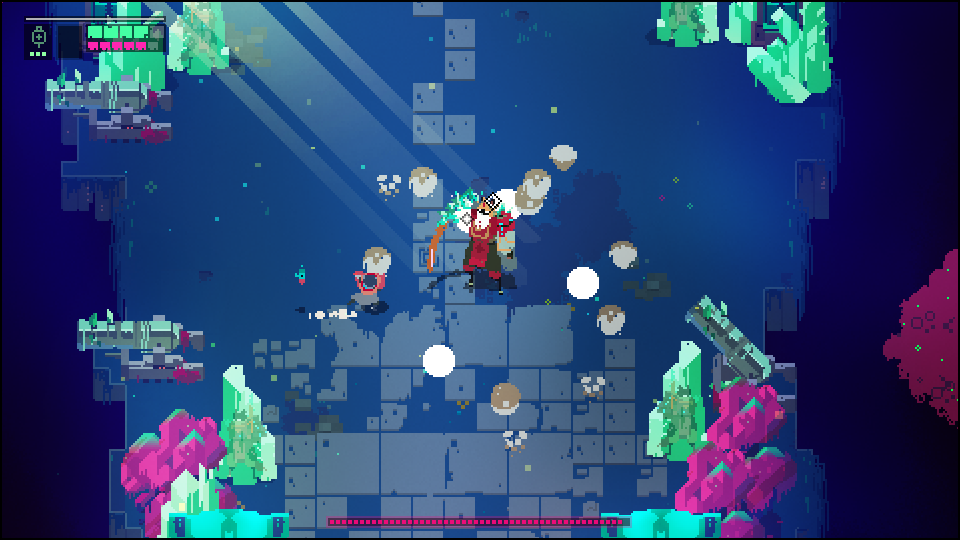hanged_man: (433, 188, 521, 292)
player: (346, 271, 388, 316)
